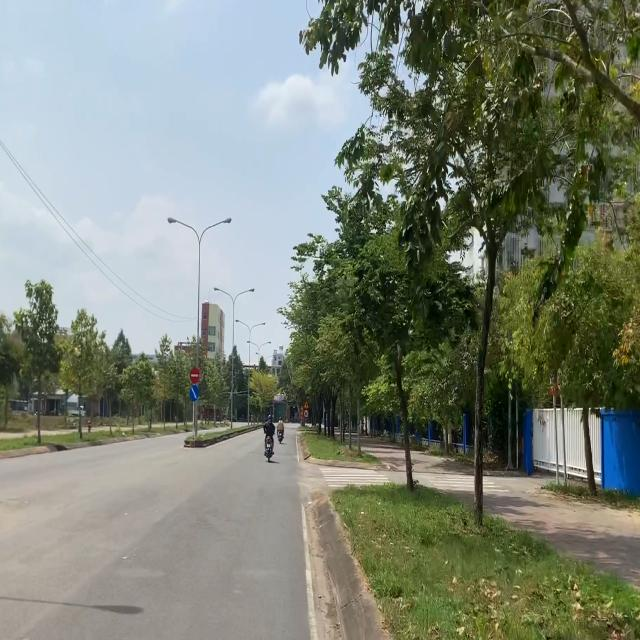Cam nguoc chieu: (190, 367, 200, 384)
Giao voi duong khong uu tien: (303, 400, 309, 409)
Hieu lenh: (189, 385, 199, 401)
Toc do toi da: (303, 409, 309, 419)
